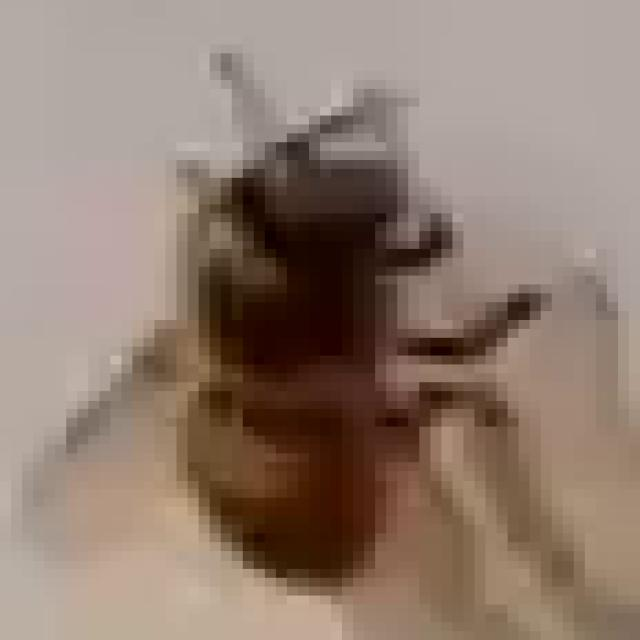honeybee: (168, 99, 556, 589)
